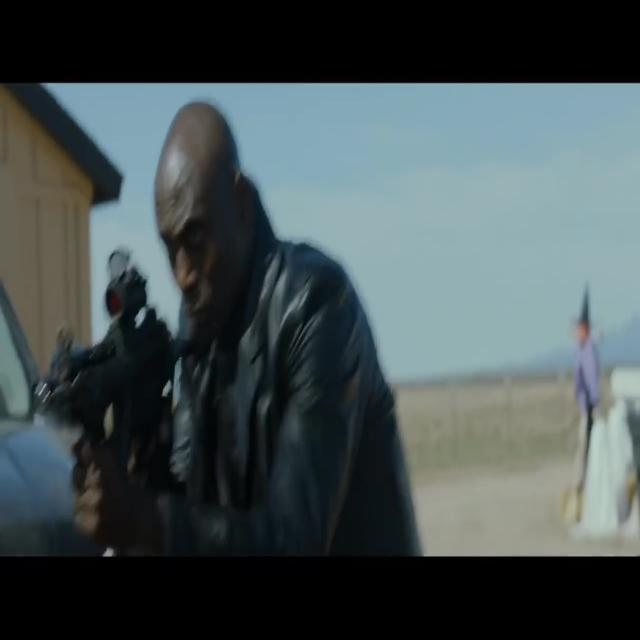Weapon: (27, 206, 220, 553)
